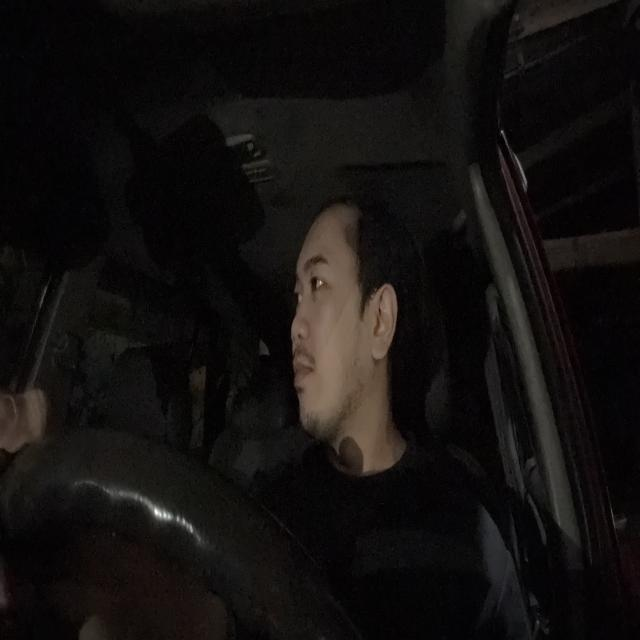open: (303, 256, 333, 306)
